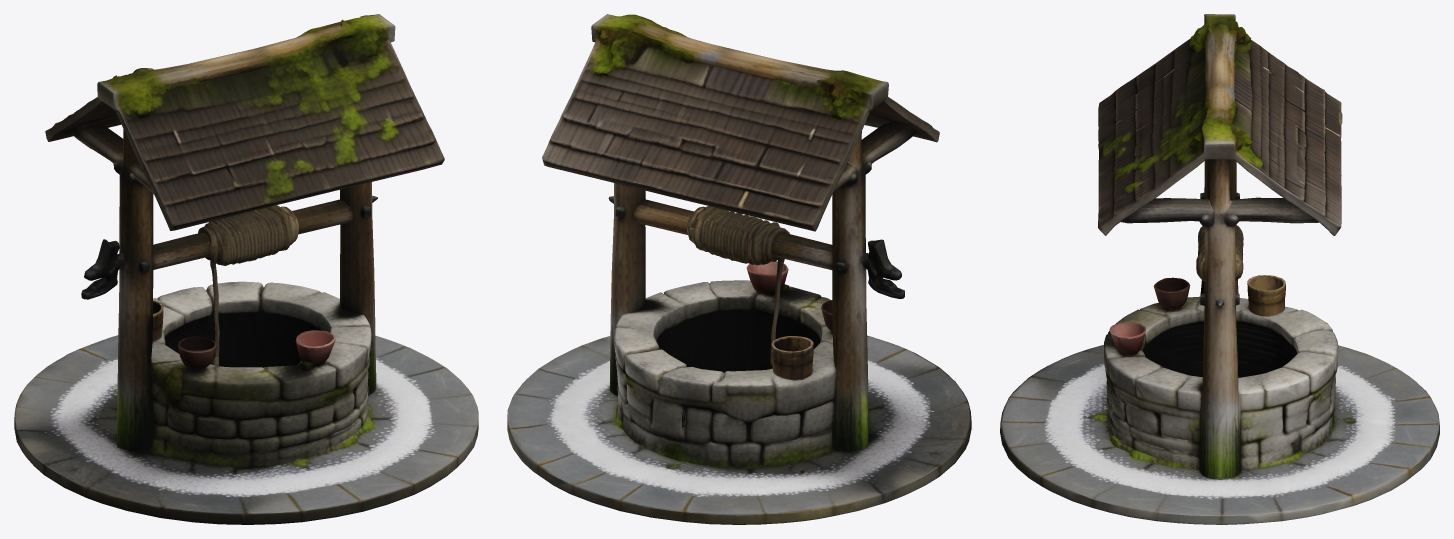
The model's file is prop-echo-well.glb.
3 views of the same model, side by side, from view 1: azimuth 30°, elevation 25°; view 2: azimuth 150°, elevation 25°; view 3: azimuth 270°, elevation 25° (orthographic). The views are drawn at different scales.
Visible parts, largest first — view 1: prop-echo-well; view 2: prop-echo-well; view 3: prop-echo-well.
Boxes of the visible parts, left/top/right/bottom form: prop-echo-well: left=14, top=14, right=478, bottom=524; prop-echo-well: left=507, top=14, right=971, bottom=524; prop-echo-well: left=1000, top=14, right=1439, bottom=524.
Size of the model in its own units: 5.58 by 5.06 by 5.59.
Materials: 1 (1 with a texture image).
